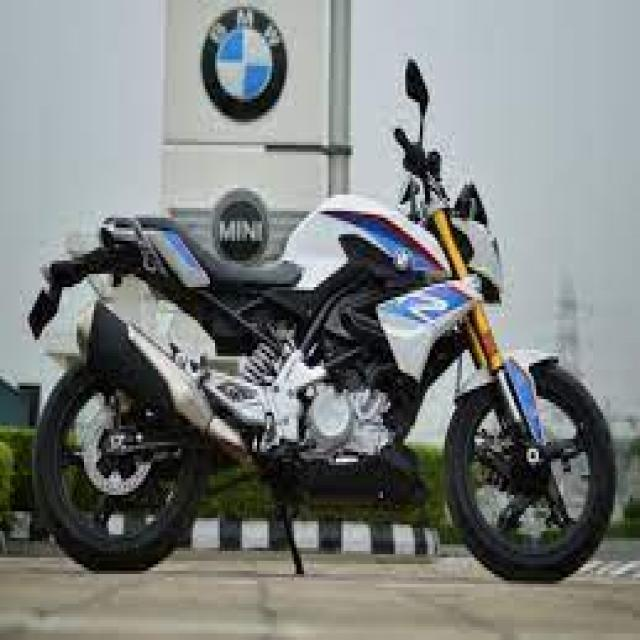Bike: (33, 138, 623, 594)
